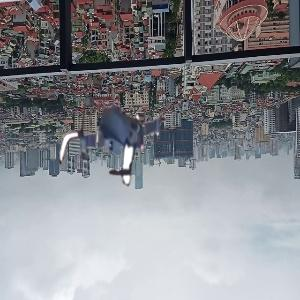drone: (57, 85, 174, 202)
